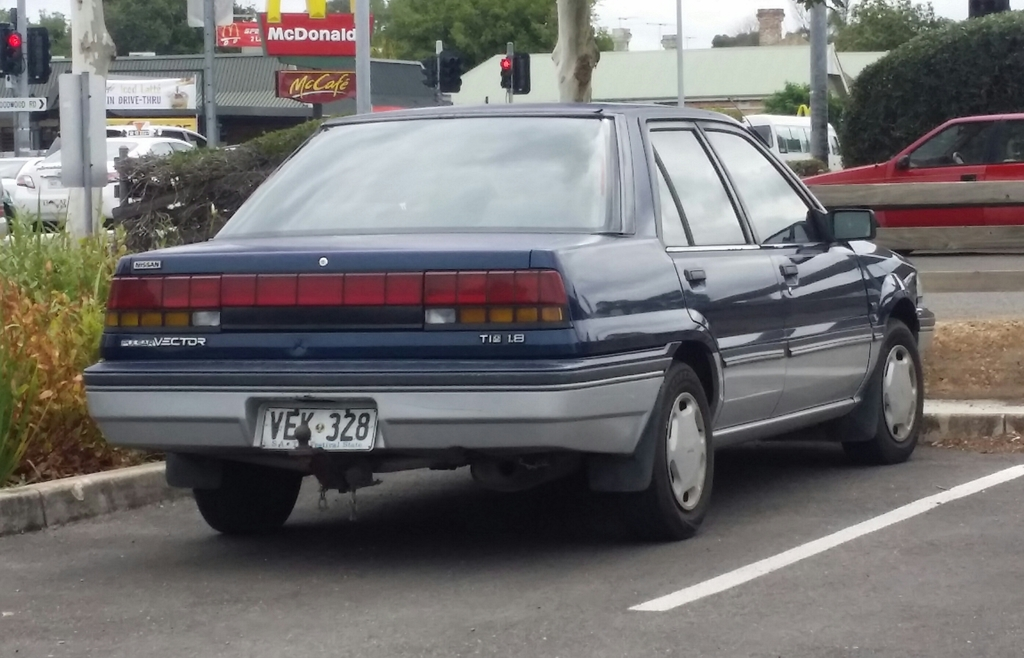Car: (74, 96, 940, 540), (802, 120, 1023, 245), (0, 126, 200, 231)
